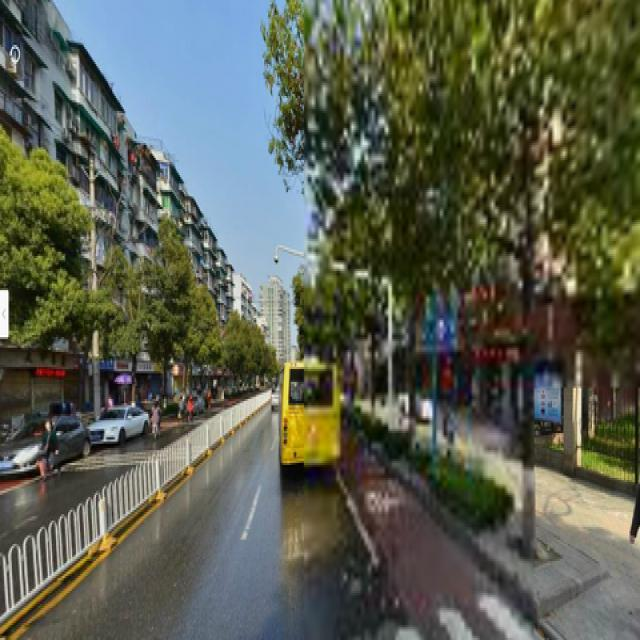cinn: (144, 230, 184, 406)
